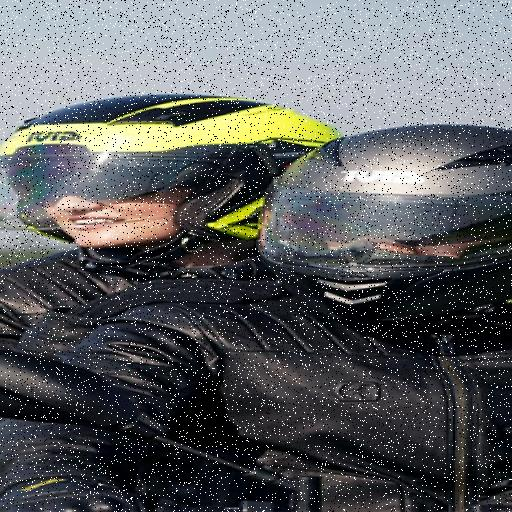Helmet: (16, 74, 335, 286), (263, 125, 511, 323)
